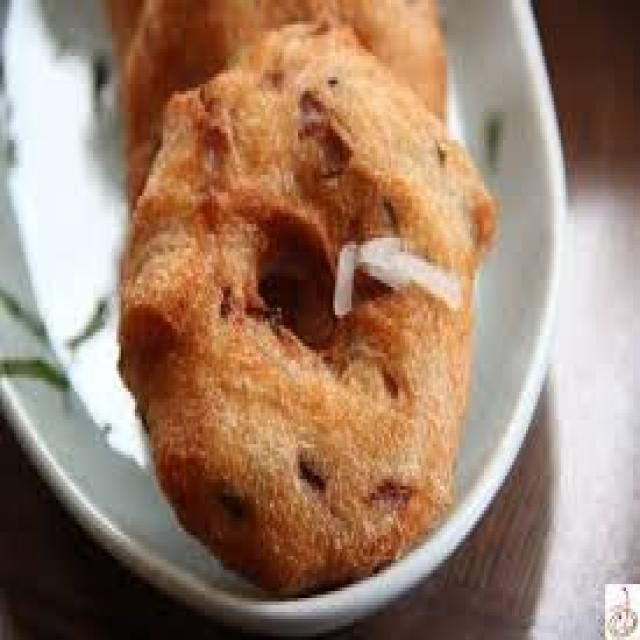medu vadai: (96, 0, 522, 640)
